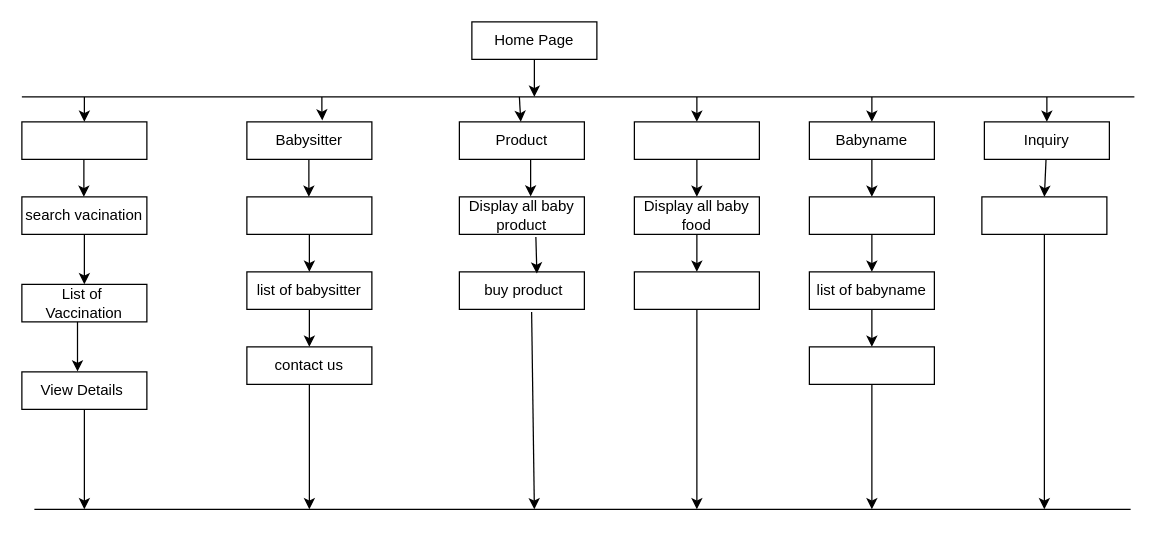
This 1158x541 diagram has some shape labels left out. The shapes that lost their labels are listed below. From the top down, each one's centre as x and y in pixels, then its label:
the point at 84,140: Vaccination
the point at 696,140: Baby food
the point at 309,215: search babysitter
the point at 871,215: search babyname
the point at 1044,215: Send
the point at 696,290: buy babyfood
the point at 871,365: select babyname
